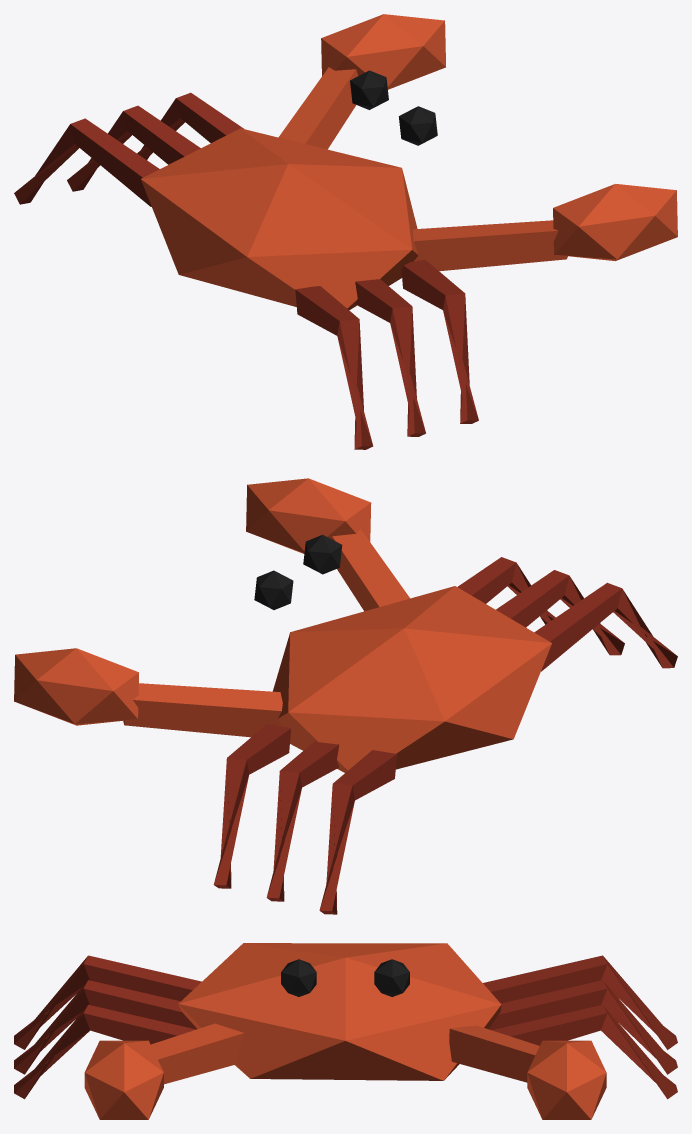
File: crab.glb
3 renders of one model, top to bottom at view 1: azimuth 30°, elevation 25°; view 2: azimuth 150°, elevation 25°; view 3: azimuth 270°, elevation 25°, orthographic. The views are drawn at different scales.
Parts seen in each view (by area): view 1: crab; view 2: crab; view 3: crab.
Part boxes in pixels (bbox=[...]): crab: bbox=[14, 14, 677, 449]; crab: bbox=[14, 478, 677, 914]; crab: bbox=[14, 943, 677, 1119].
Bounding box in the file's own units: 0.3618 × 0.1726 × 0.57.
